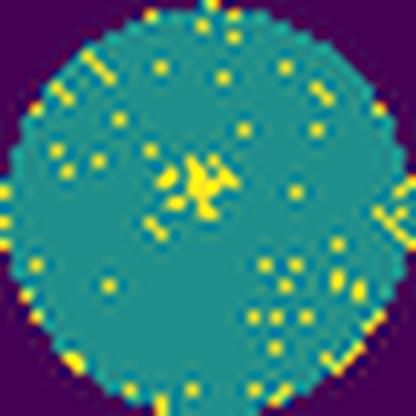Center: (182, 150, 238, 224)
